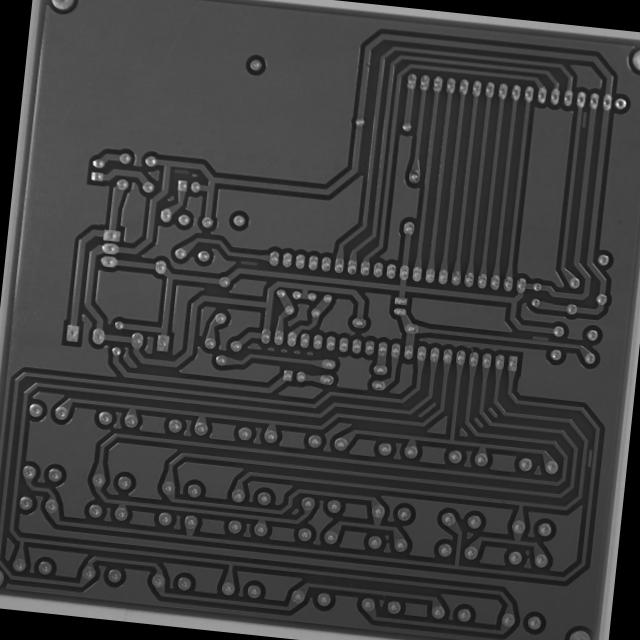spurious_copper: (234, 253, 260, 270), (168, 162, 194, 178), (528, 330, 552, 342), (577, 108, 590, 128), (582, 447, 594, 468)
